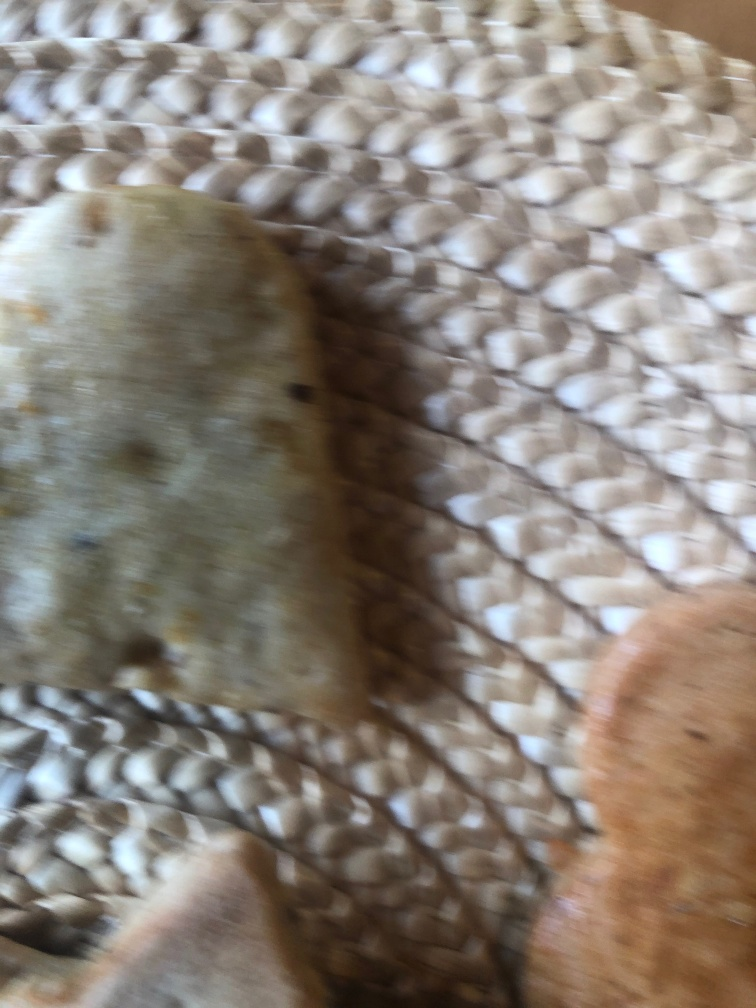heart: (1, 184, 382, 738)
